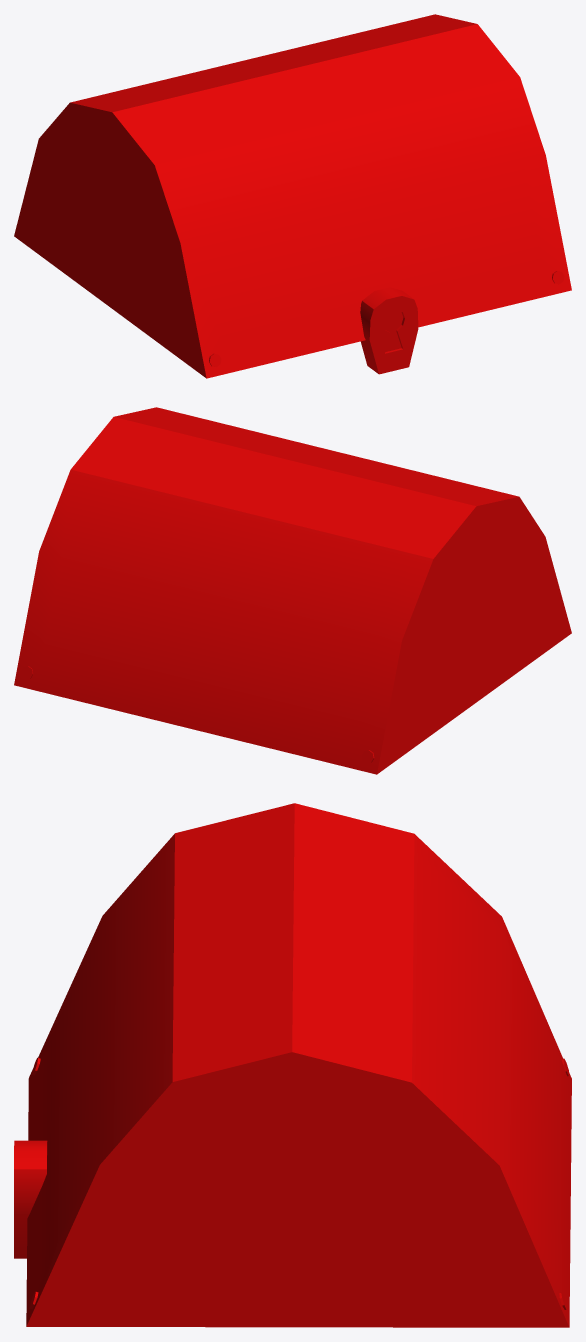
File: Asset_ChestTop.glb
3 renders of one model, top to bottom at view 1: azimuth 30°, elevation 25°; view 2: azimuth 150°, elevation 25°; view 3: azimuth 270°, elevation 25°, orthographic. The views are drawn at different scales.
Visible parts, largest first — view 1: Asset_ChestTop; view 2: Asset_ChestTop; view 3: Asset_ChestTop.
Boxes of the visible parts, x1,y1,x2,y2 form: Asset_ChestTop: (14,14,571,378); Asset_ChestTop: (14,407,571,774); Asset_ChestTop: (14,803,571,1327).
Size of the model in its own units: 0.8846 by 0.5301 by 0.8348.
